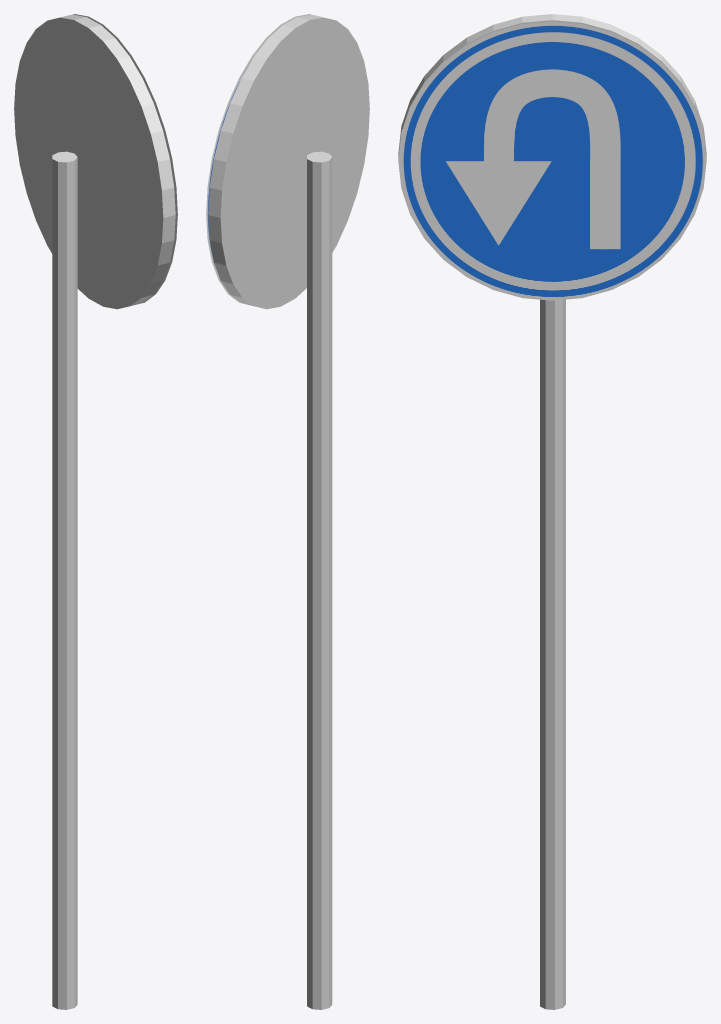
3 views of the same model, side by side, from view 1: azimuth 30°, elevation 25°; view 2: azimuth 150°, elevation 25°; view 3: azimuth 270°, elevation 25° (orthographic). The views are drawn at different scales.
Parts seen in each view (by area): view 1: 看板Uターン, 支柱; view 2: 看板Uターン, 支柱; view 3: 看板Uターン, 支柱.
Part boxes in pixels (x1,y1,x2,y2): 看板Uターン: (14, 14, 177, 309); 支柱: (52, 151, 77, 1009); 看板Uターン: (206, 14, 369, 309); 支柱: (307, 151, 332, 1009); 看板Uターン: (398, 14, 706, 300); 支柱: (540, 299, 565, 1009).
Size of the model in its own units: 0.1228 by 2.29 by 0.6385.
13 materials, 6 textured.
